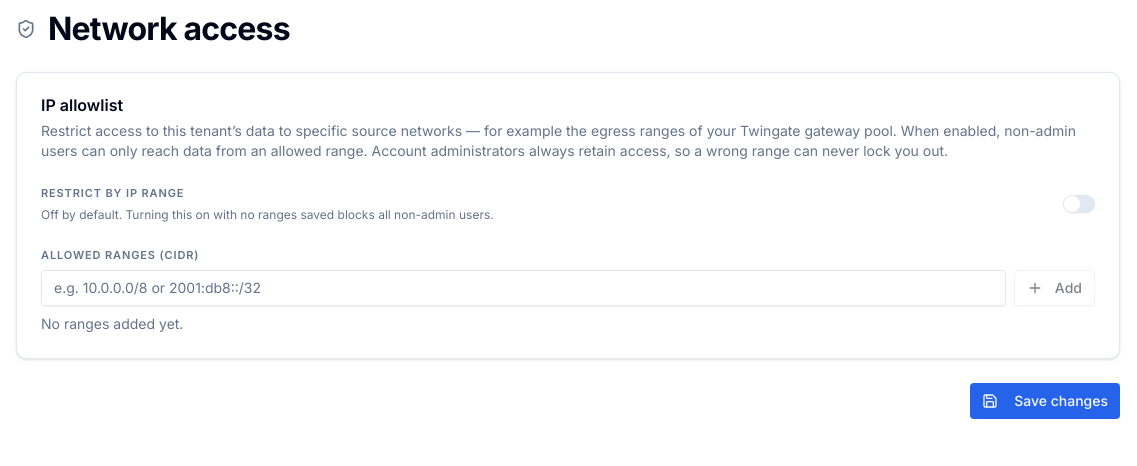
it: NetworkAccessPage › adds a valid range and removes it
The image size is (1137, 466).
Type "10.0.0.0/8" into the field with test id "cidr-input" at (523, 288), box [41,270,1006,306]
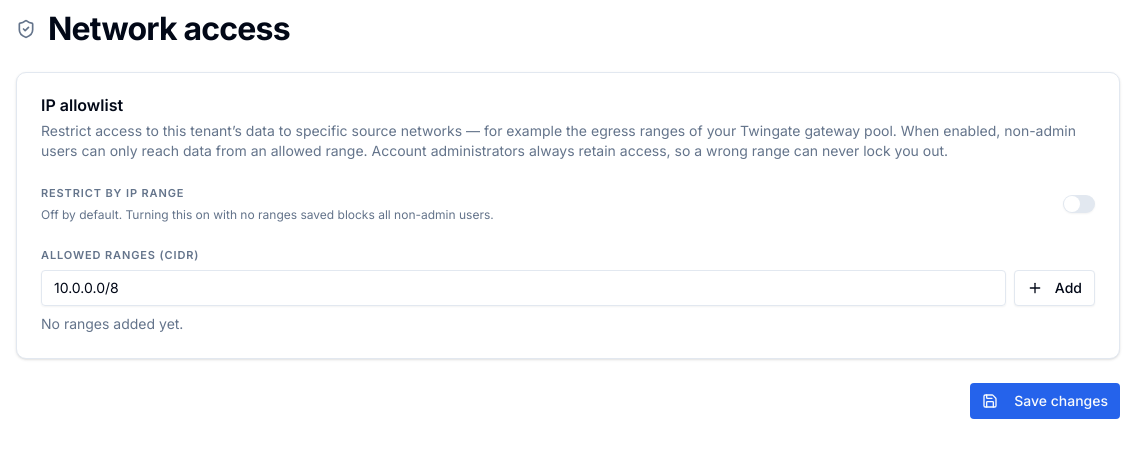
Click the button with test id "add-cidr" at (1054, 288), box [1014,270,1095,306]
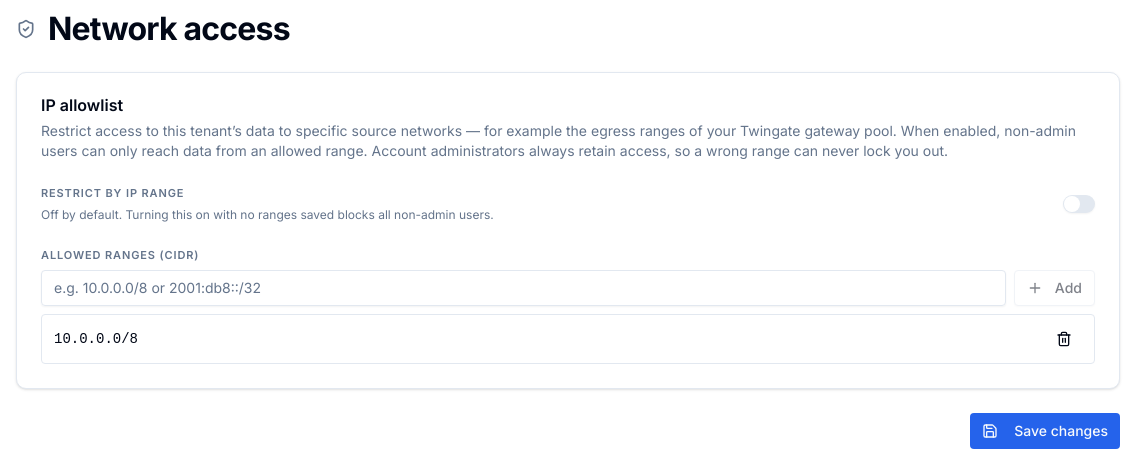
Expected: the text "10.0.0.0/8" is shown, [54,329,138,349]
Click the button with test id "remove-cidr" at (1064, 339), box [1046,323,1082,355]
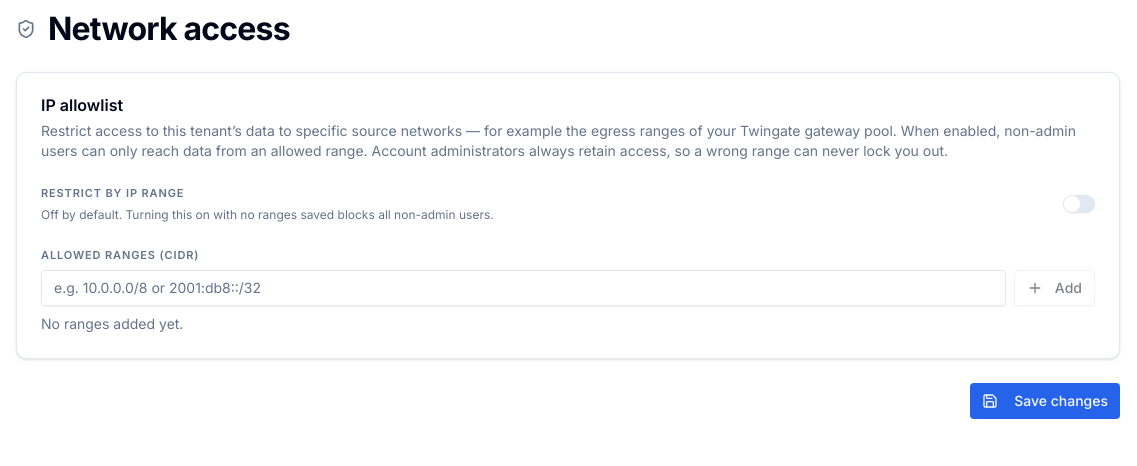
Expected: the text "No ranges added yet." is shown, [41,315,183,332]
